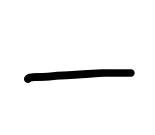minus: (24, 69, 134, 83)
